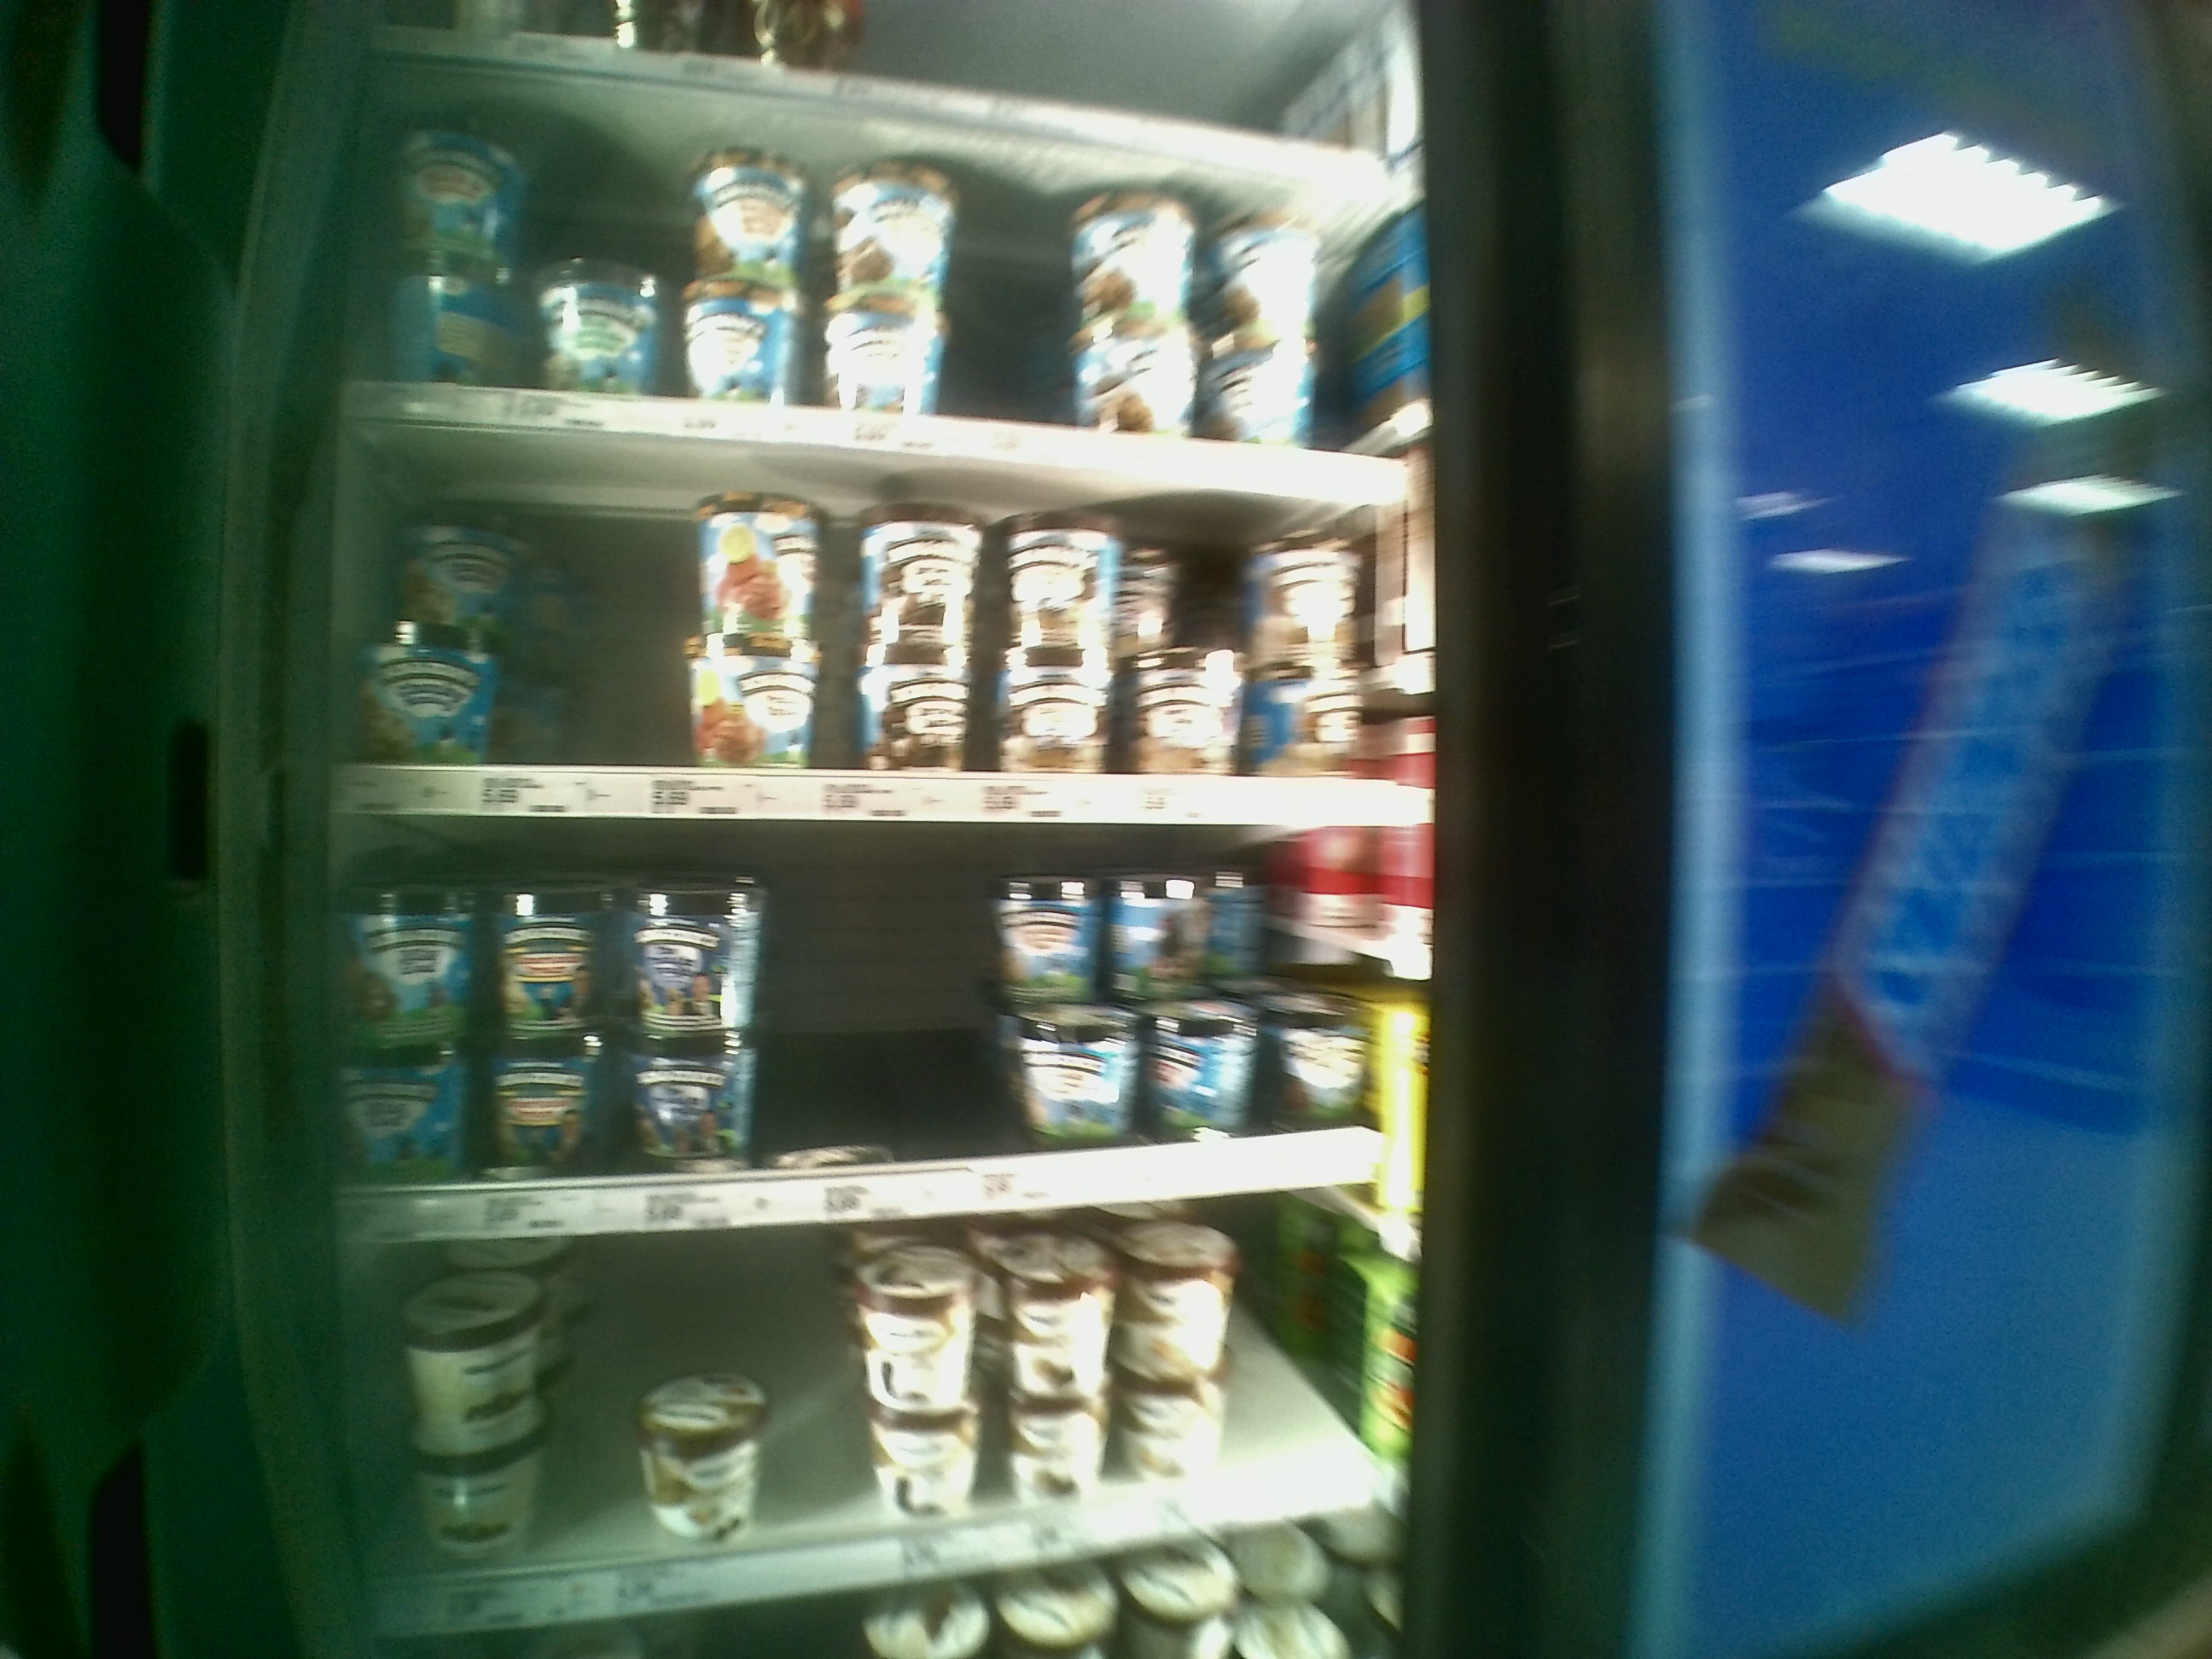ice-cream-shelf: (347, 814, 1425, 1244), (348, 422, 1420, 817)
